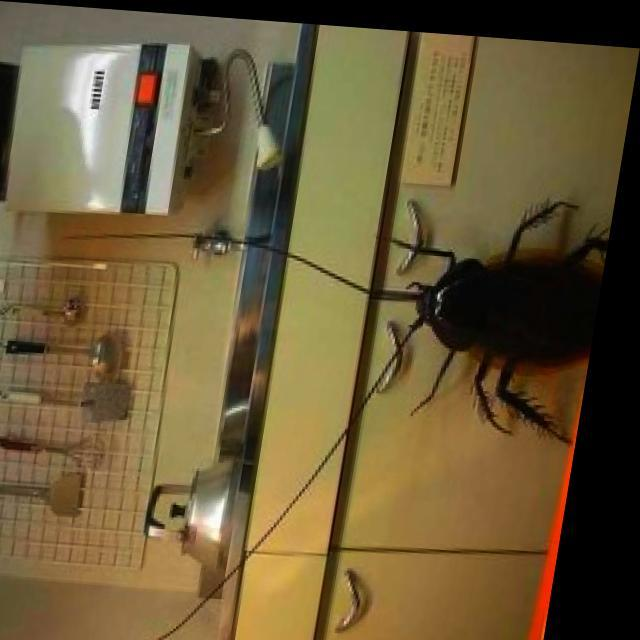cockroach: (318, 149, 640, 469)
